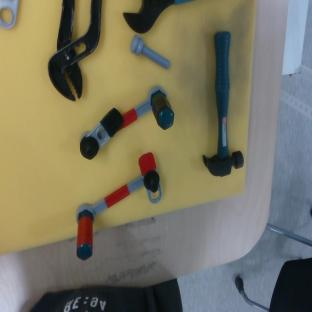non_pass: (69, 85, 179, 166)
pass: (53, 150, 178, 263)
